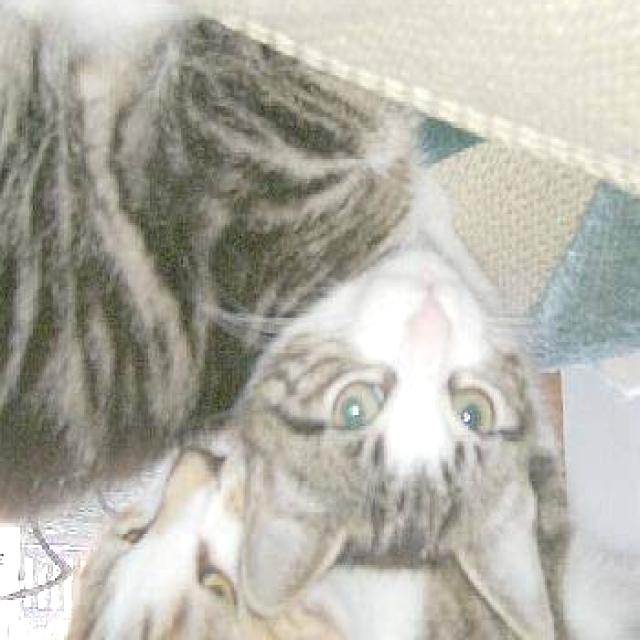Kucing: (236, 196, 604, 626), (36, 407, 240, 640)
